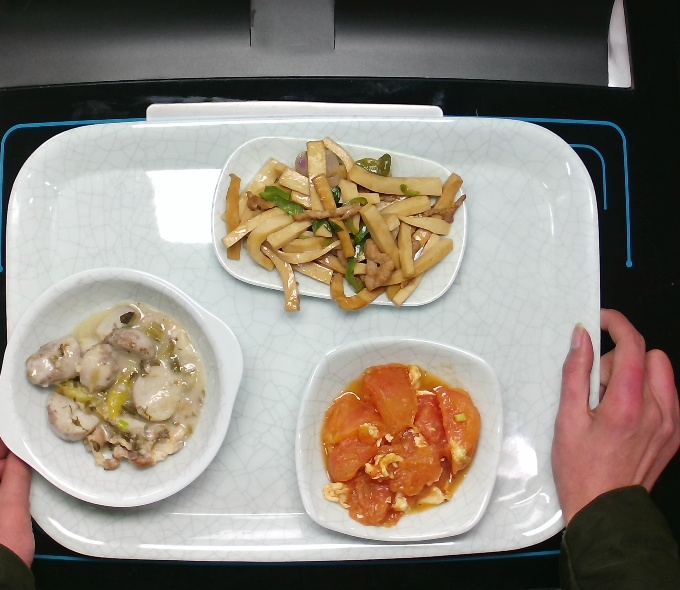wcq-FanQieChaoDan: (315, 357, 483, 531)
wcq-QianYeDouFu: (211, 135, 471, 316)
wcq-YangYu: (21, 296, 208, 485)
